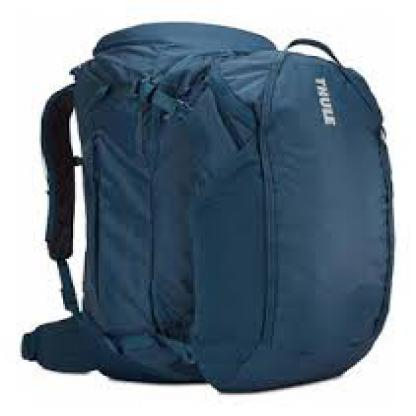morral: (14, 9, 398, 395)
